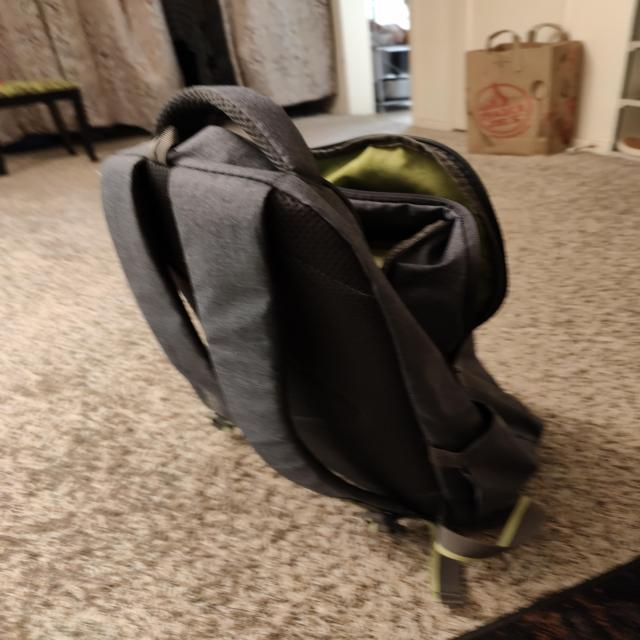bag: (100, 82, 538, 542)
